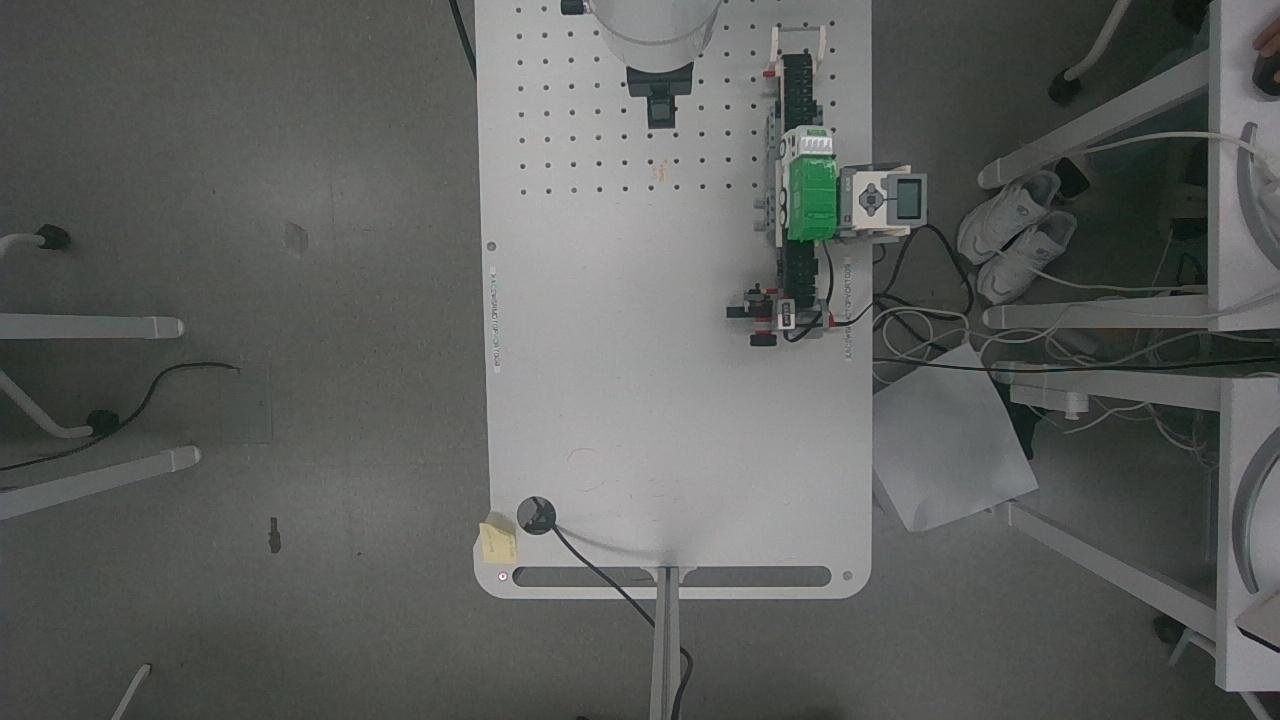truck: (768, 122, 843, 249)
